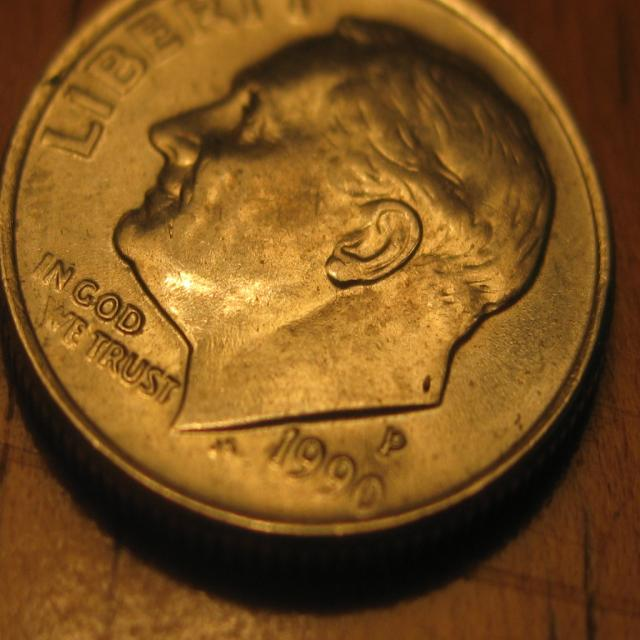Coin: (0, 0, 611, 543)
